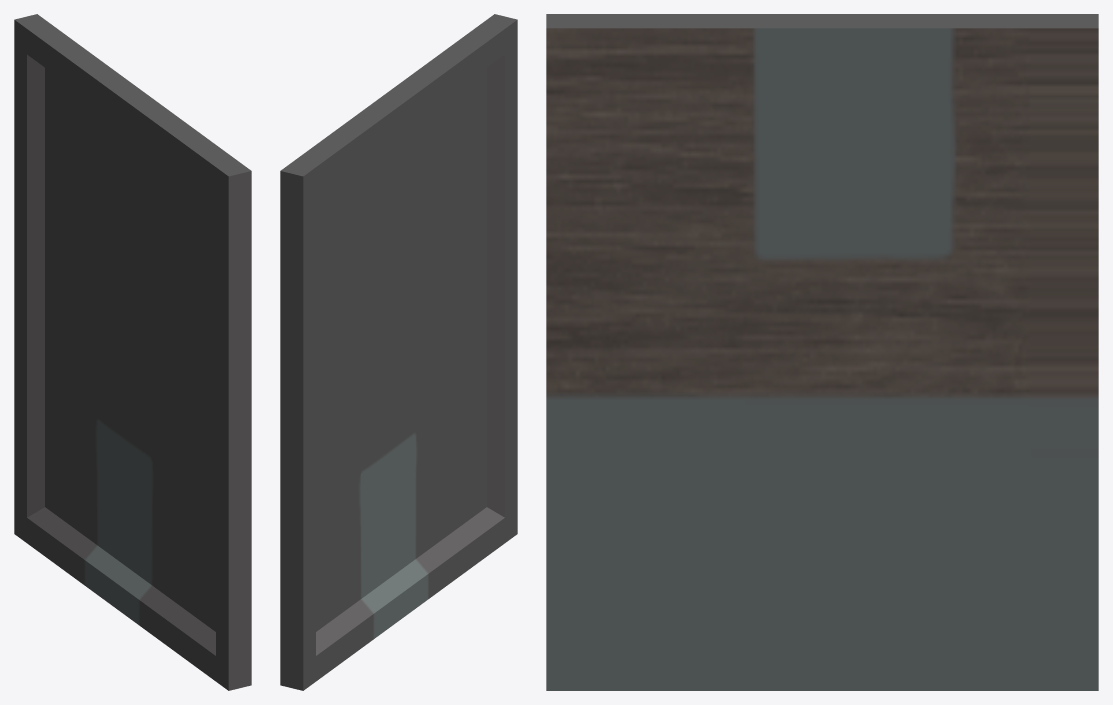
Rendered from Picture1.FBX.
3 views of the same model, side by side, from view 1: azimuth 30°, elevation 25°; view 2: azimuth 150°, elevation 25°; view 3: azimuth 270°, elevation 25° (orthographic). The views are drawn at different scales.
Parts seen in each view (by area): view 1: Box658; view 2: Box658; view 3: Box658.
Boxes of the visible parts, x1,y1,x2,y2 form: Box658: (14, 14, 251, 690); Box658: (280, 14, 517, 690); Box658: (546, 14, 1098, 690).
Bounding box in the file's own units: 0.2324 × 4.98 × 3.76.
